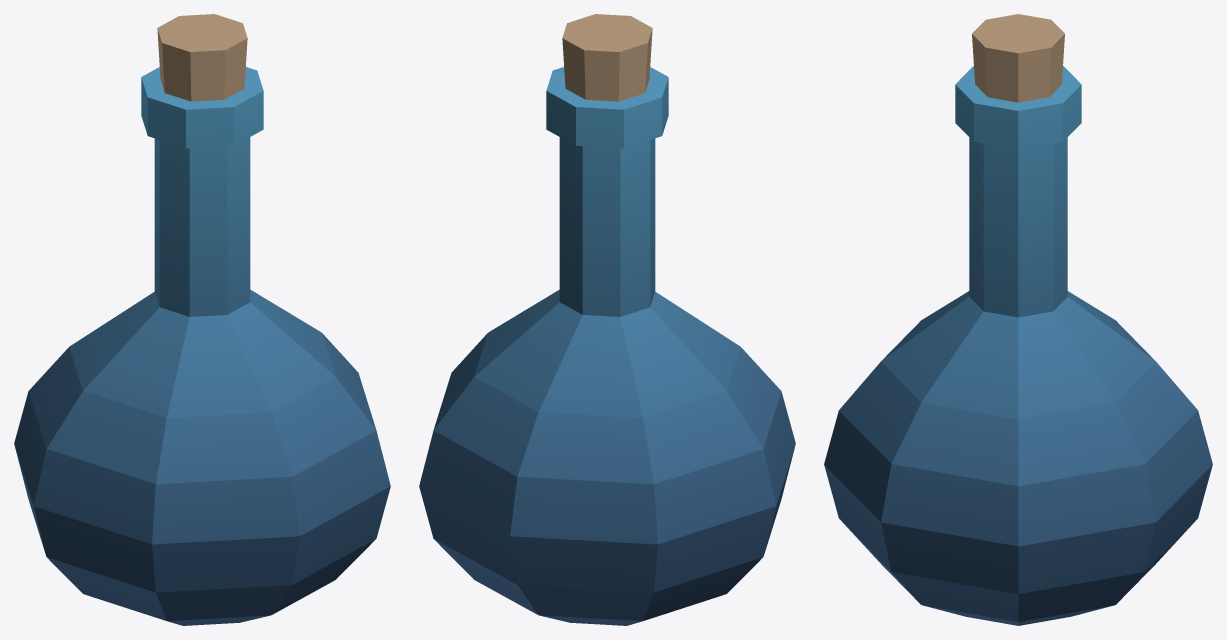
File: Bottle_01.fbx
The picture shows the model from 3 angles, left to right: view 1: azimuth 30°, elevation 25°; view 2: azimuth 150°, elevation 25°; view 3: azimuth 270°, elevation 25°; orthographic projection.
Visible parts, largest first — view 1: Bottle_01; view 2: Bottle_01; view 3: Bottle_01.
Boxes of the visible parts, box(x1,y1,x2,y2) form: Bottle_01: box(14, 14, 390, 625); Bottle_01: box(419, 14, 795, 625); Bottle_01: box(824, 14, 1212, 625).
Size of the model in its own units: 0.2484 by 0.4031 by 0.2484.
